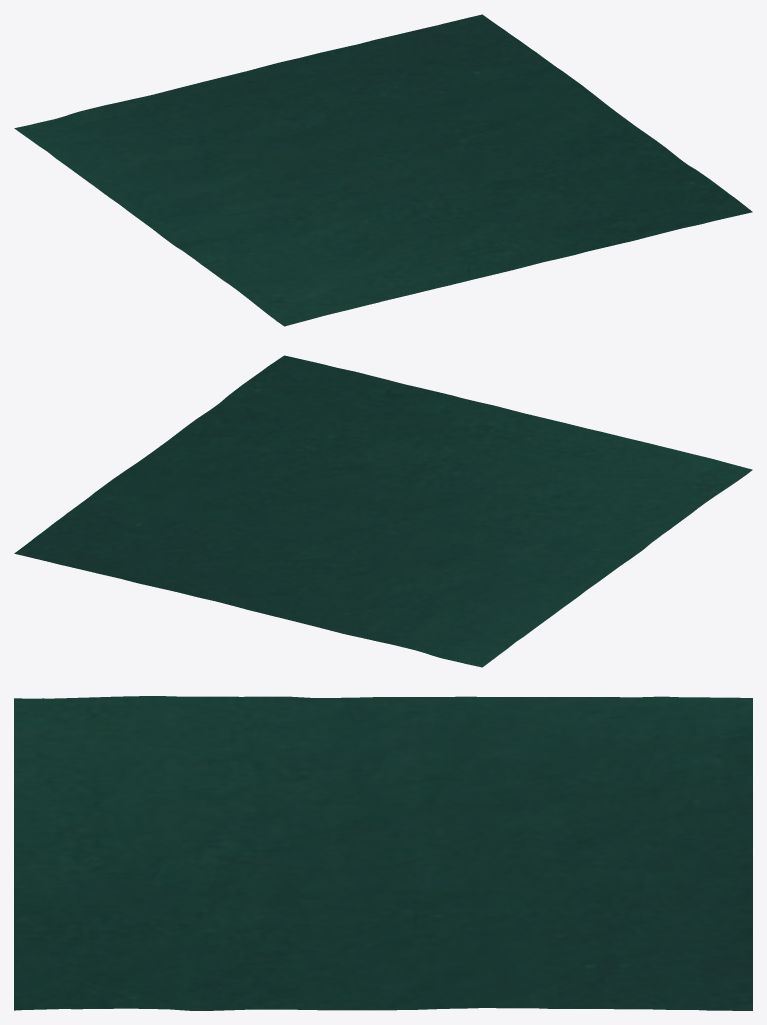
3 views of the same model, one above another, from view 1: azimuth 30°, elevation 25°; view 2: azimuth 150°, elevation 25°; view 3: azimuth 270°, elevation 25° (orthographic). The views are drawn at different scales.
Size of the model in its own units: 104 by 0.6017 by 104.
Materials: 2 (2 with a texture image).
